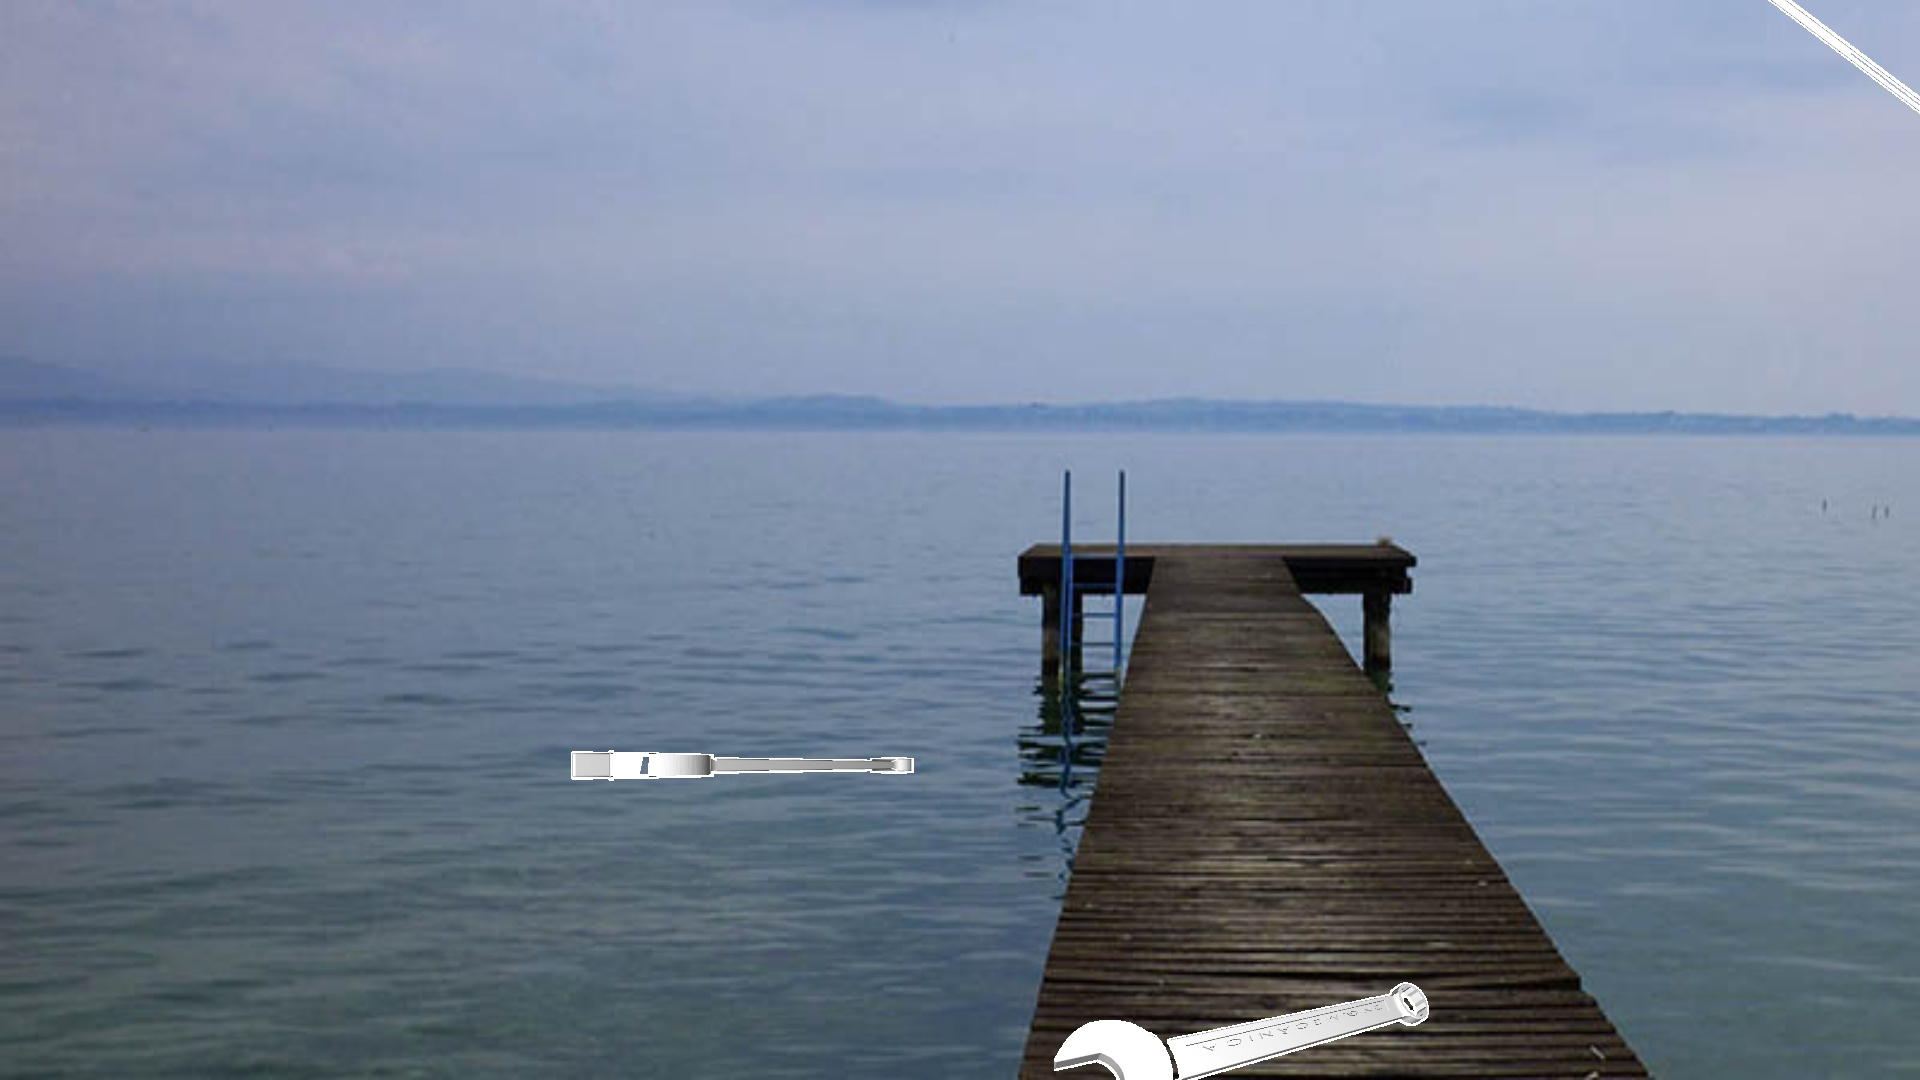Mixed Key: (1054, 982, 1428, 1079), (1768, 0, 1919, 113), (571, 750, 913, 779)
